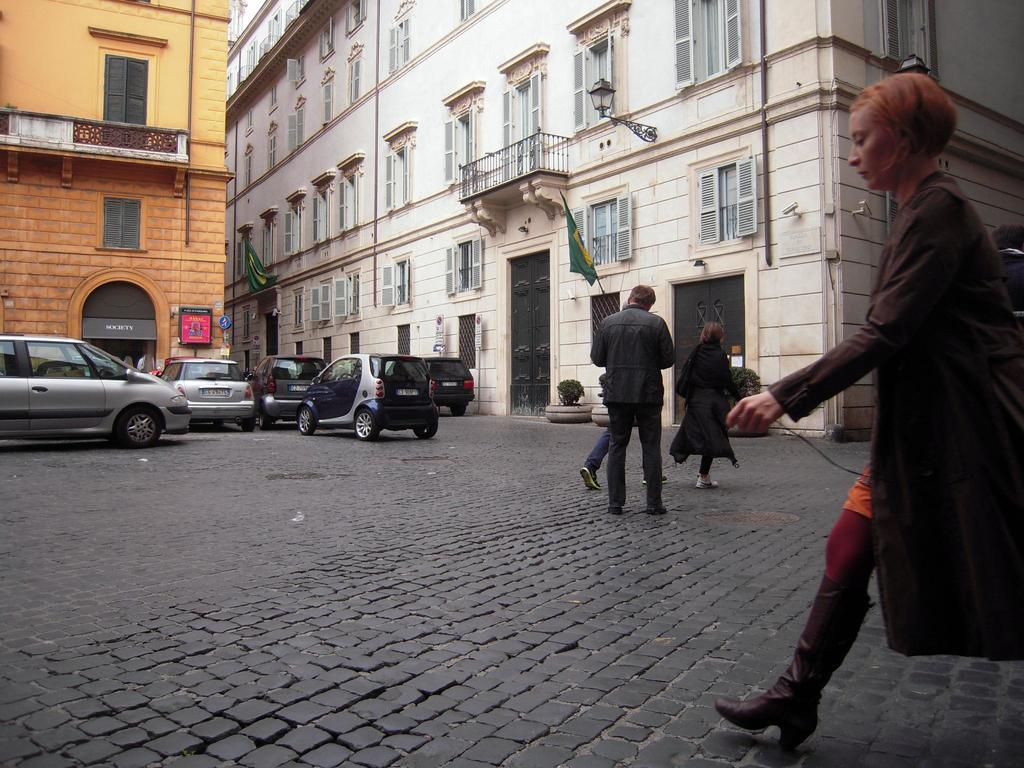Car: (0, 333, 192, 444), (295, 356, 437, 434), (148, 360, 255, 428), (254, 360, 321, 428), (430, 350, 472, 418)
